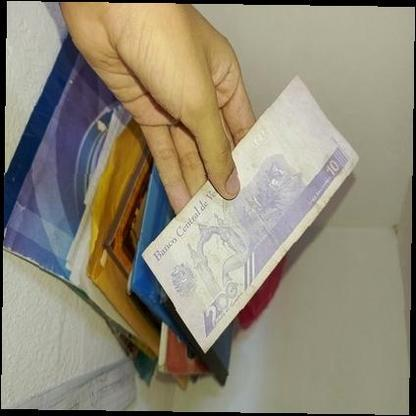ten-back-vef: (141, 76, 360, 354)
